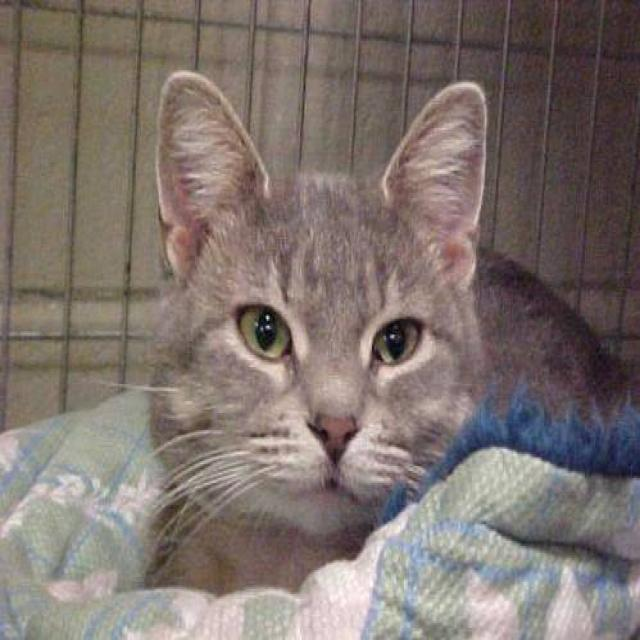cat: (136, 67, 637, 596)
